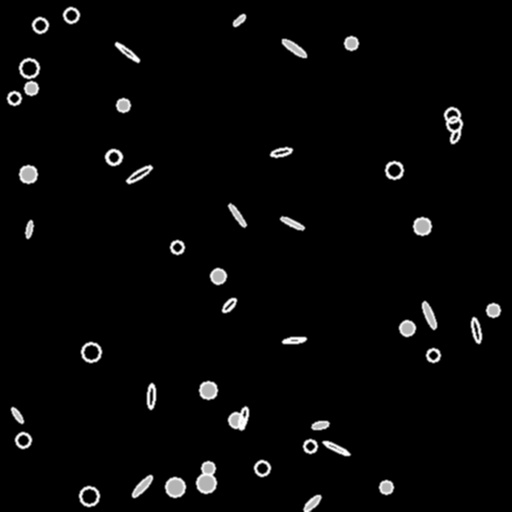pseudomonas: (280, 37, 308, 59), (114, 41, 140, 63), (125, 164, 153, 184), (131, 474, 153, 498), (322, 439, 350, 457), (227, 203, 247, 227), (421, 301, 437, 329), (280, 215, 304, 231), (302, 494, 322, 512), (221, 296, 237, 314), (470, 318, 482, 342), (270, 146, 292, 158), (10, 407, 24, 423), (448, 128, 462, 144), (238, 407, 248, 429), (232, 13, 246, 27), (147, 384, 155, 408), (282, 336, 306, 344), (312, 420, 328, 430), (25, 221, 33, 237)
synechocystis: (82, 343, 100, 361), (20, 59, 38, 77), (197, 474, 215, 492), (166, 478, 184, 496), (80, 487, 98, 505), (20, 166, 36, 182), (386, 162, 402, 178), (414, 218, 430, 234), (200, 382, 216, 398), (400, 321, 414, 335), (229, 413, 243, 427), (445, 108, 459, 122), (211, 269, 225, 283), (255, 461, 269, 475), (64, 8, 78, 22), (107, 150, 121, 164), (33, 18, 47, 32), (447, 117, 461, 131), (106, 150, 120, 164), (16, 433, 30, 447), (25, 82, 37, 94), (171, 241, 183, 253), (345, 37, 357, 49), (117, 99, 129, 111), (487, 304, 499, 316), (202, 462, 214, 474), (304, 440, 316, 452), (8, 92, 20, 104), (427, 349, 439, 361), (380, 481, 392, 493)
